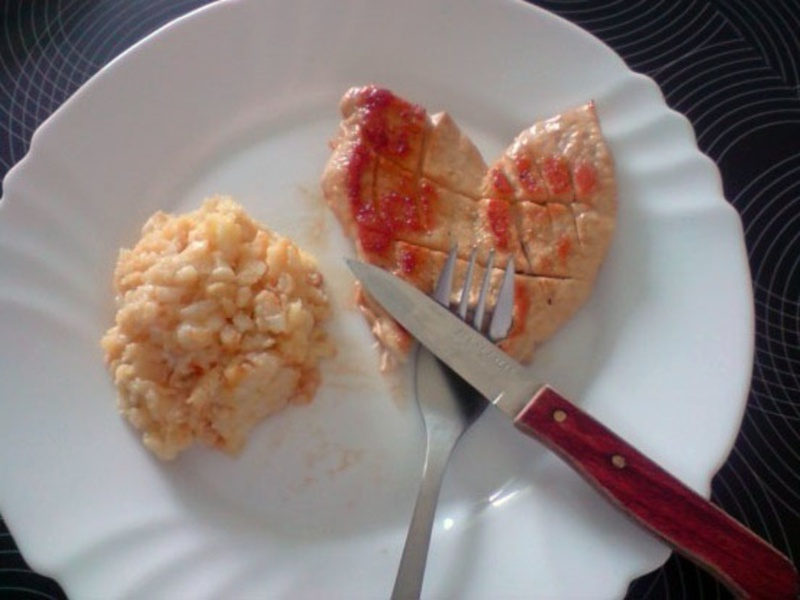knife: (339, 251, 796, 600)
